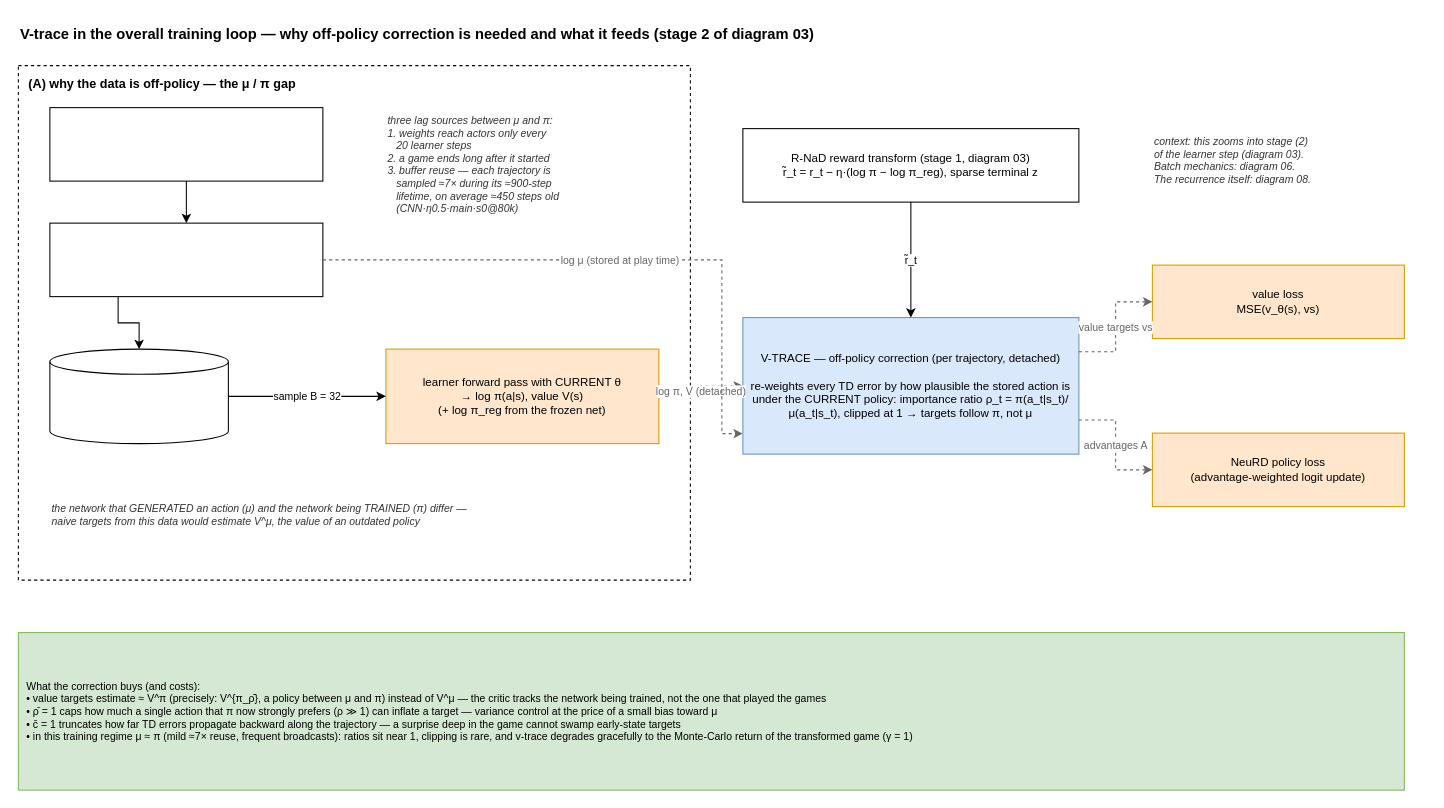
Image size: 1444x808. Some labels were removed from this diagram. The centre of each missing label's shape, as x and y in pixels:
"16 async actor processes self-play with a weight SNAPSHOT → behavior policy μ" goes at (186,144).
"every decision step stores behavior log μ(a|s) (Step.behavior_logprob)" goes at (186,259).
"FIFO replay buffer (4096 trajectories)" goes at (138,396).
